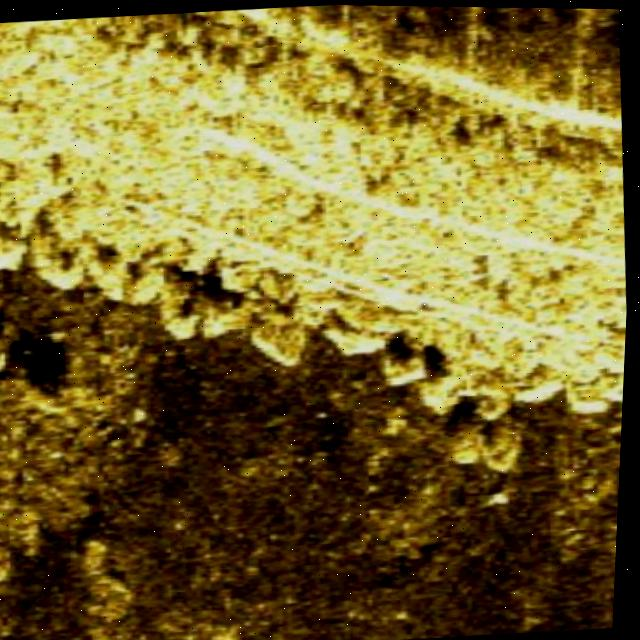bedrock group: (0, 0, 640, 454)
